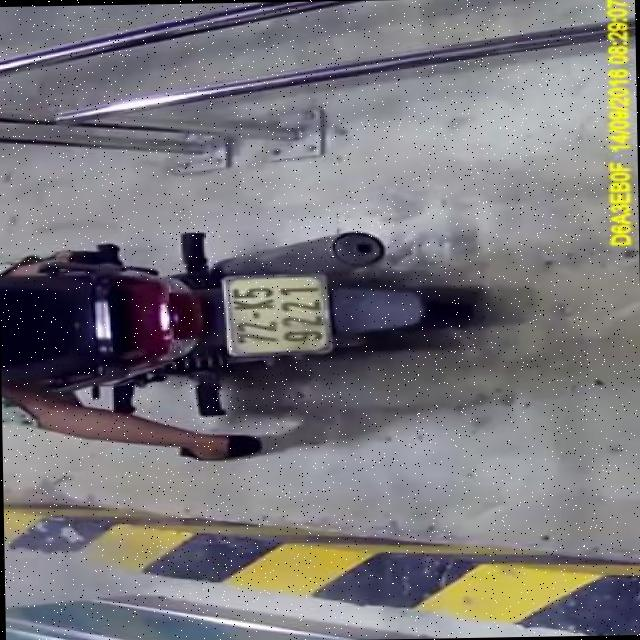license_plate: (229, 270, 334, 358)
